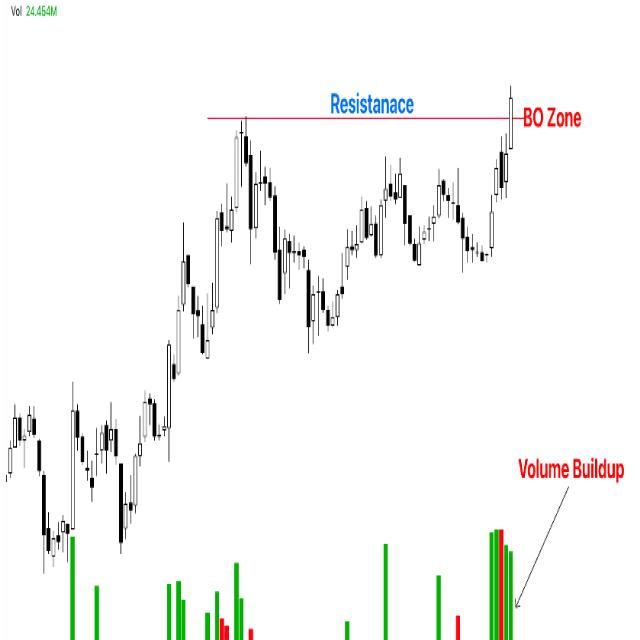Channel-down: (206, 90, 359, 396)
